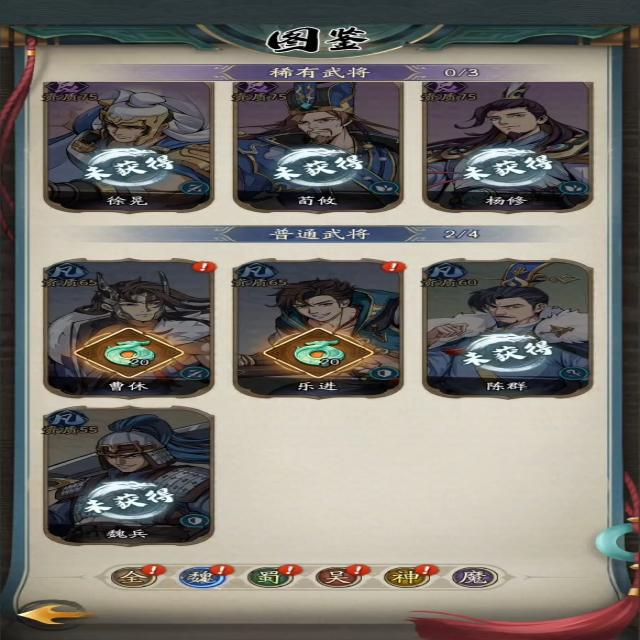hint-reddot: (188, 259, 224, 275), (272, 562, 308, 576), (377, 259, 412, 273), (341, 562, 376, 576), (136, 563, 170, 576), (207, 563, 240, 575), (417, 563, 442, 577)
navigation-myHeroes: (35, 252, 223, 402), (230, 252, 411, 400)
operation-back: (15, 595, 98, 634)
operation-camp: (308, 562, 368, 591), (375, 561, 435, 590), (173, 563, 230, 592), (243, 562, 302, 590), (109, 564, 164, 592), (445, 562, 498, 590)
